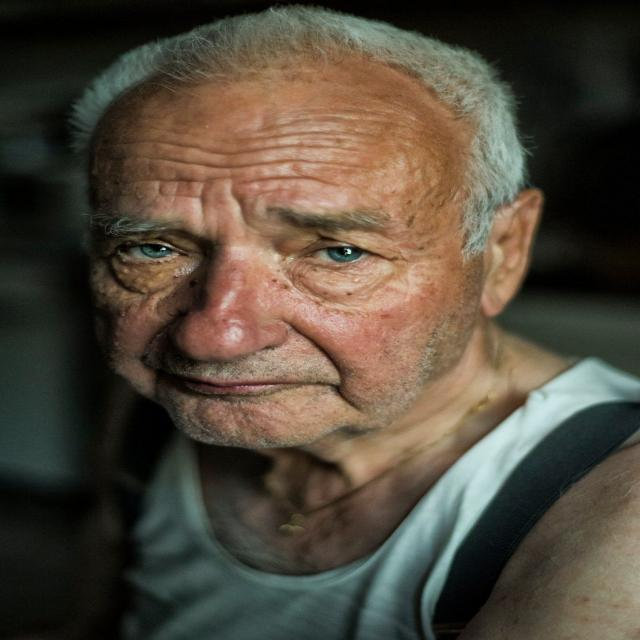earlobe: (479, 188, 542, 318)
